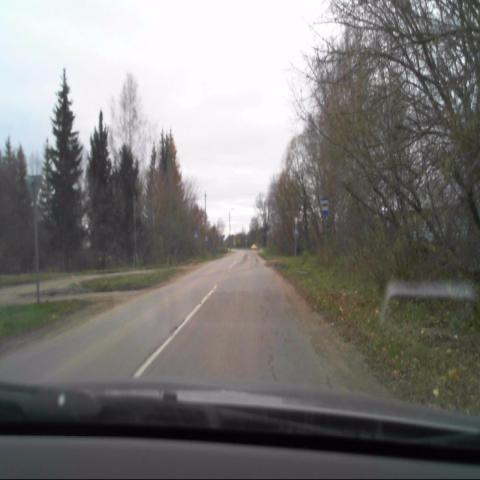2_4: (293, 216, 299, 227)
5_16: (320, 198, 330, 216)
5_19_1: (292, 228, 300, 240)
